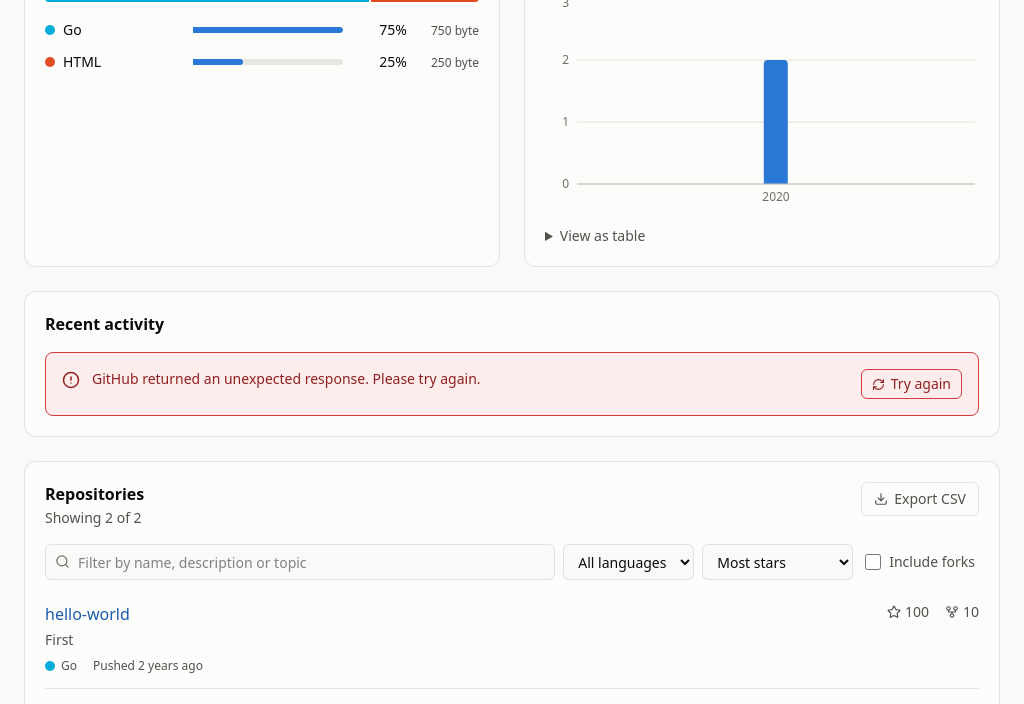
Test: errors › lets the user retry a failed panel
(page scrolled)
Click the button "Try again" at (911, 384), box [861, 369, 962, 399]
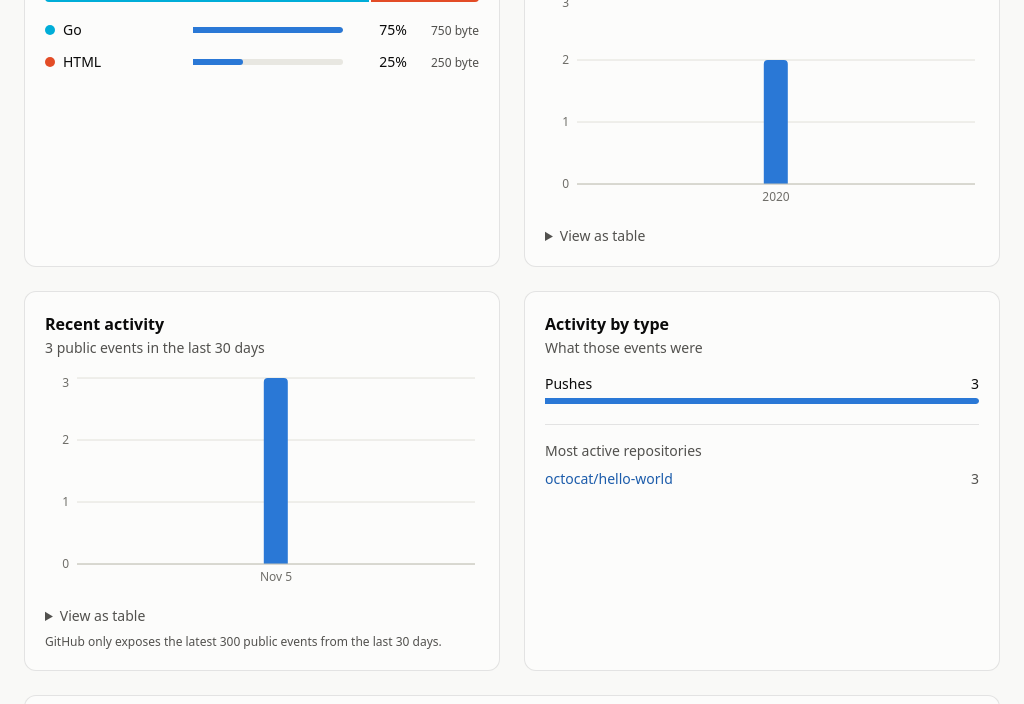
Check: the text "Pushes" is shown, box [545, 374, 592, 394]
